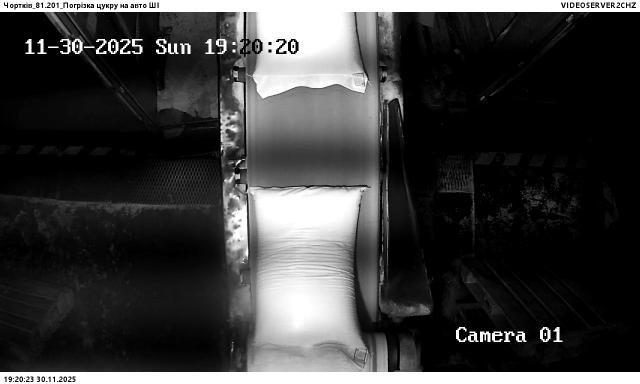bag: (246, 187, 370, 362), (254, 12, 369, 98)
